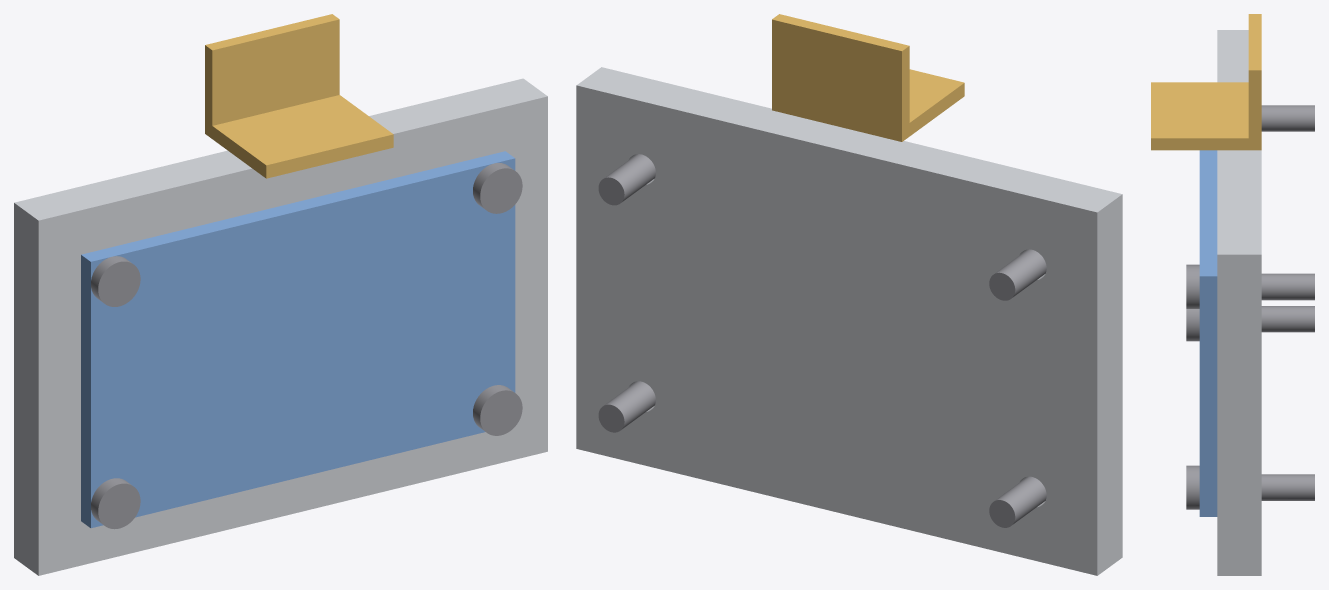
The model's file is baugruppe.obj.
3 renders of one model, left to right at view 1: azimuth 30°, elevation 25°; view 2: azimuth 150°, elevation 25°; view 3: azimuth 270°, elevation 25°, orthographic. The views are drawn at different scales.
Parts seen in each view (by area): view 1: Testbaugruppe/Deckel, Testbaugruppe/Grundplatte, Testbaugruppe/Halter/Winkel, Testbaugruppe/Schraube M6x25; view 2: Testbaugruppe/Grundplatte, Testbaugruppe/Halter/Winkel, Testbaugruppe/Schraube M6x25; view 3: Testbaugruppe/Grundplatte, Testbaugruppe/Halter/Winkel, Testbaugruppe/Schraube M6x25, Testbaugruppe/Deckel.
Part boxes in pixels (x1,y1,x2,y2): Testbaugruppe/Deckel: (81, 151, 515, 528); Testbaugruppe/Grundplatte: (14, 78, 547, 575); Testbaugruppe/Halter/Winkel: (205, 14, 393, 178); Testbaugruppe/Schraube M6x25: (91, 163, 522, 529); Testbaugruppe/Grundplatte: (576, 67, 1122, 575); Testbaugruppe/Halter/Winkel: (772, 14, 964, 141); Testbaugruppe/Schraube M6x25: (598, 154, 1046, 527); Testbaugruppe/Grundplatte: (1217, 30, 1261, 575); Testbaugruppe/Halter/Winkel: (1151, 14, 1261, 150); Testbaugruppe/Schraube M6x25: (1186, 105, 1314, 509); Testbaugruppe/Deckel: (1199, 150, 1217, 516).
Bounding box in the file's own units: 120 × 105 × 37.
